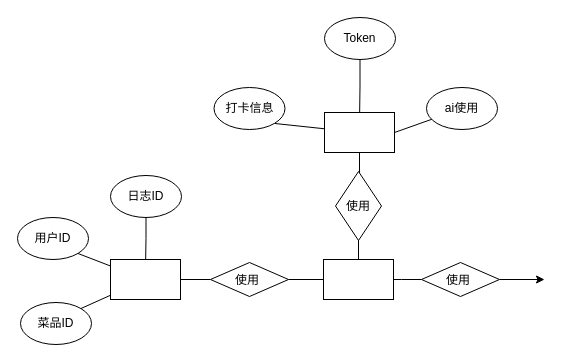
This 570x362 diagram has some shape labels left out. The shapes that lost their labels are listed below. From the top down, each one's box as (x1, y1, x2, y2) in pixels, then its label:
(324, 112, 394, 152): 信息
(110, 258, 180, 300): 评论
(322, 258, 394, 300): 用户
